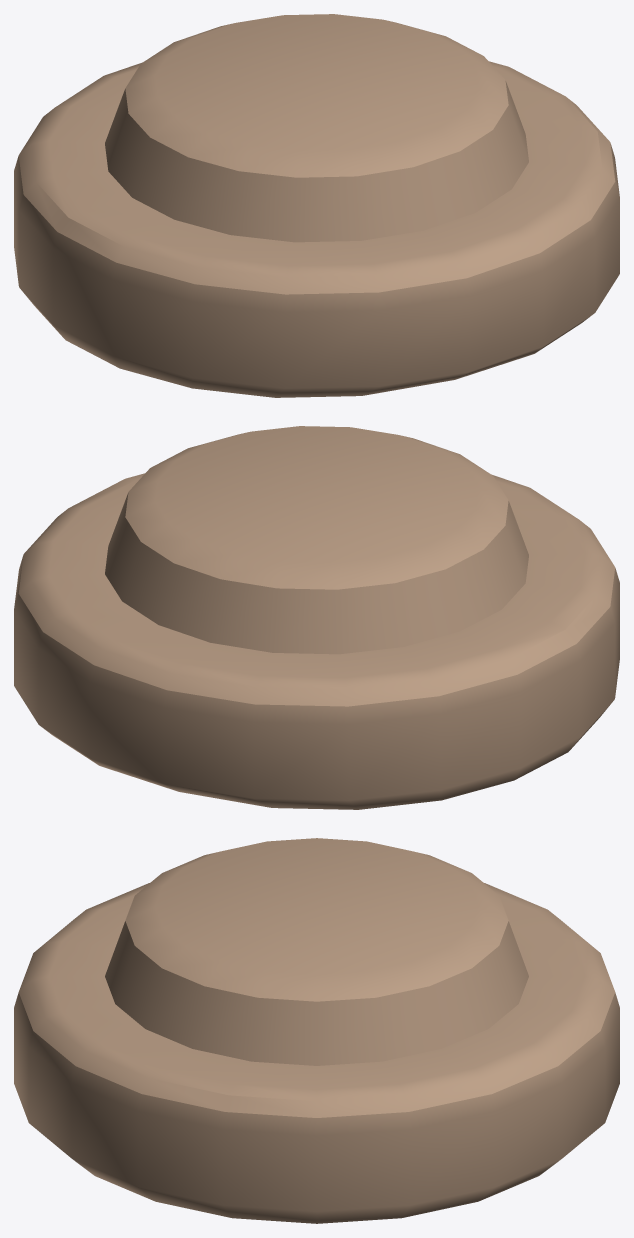
The model's file is mine.fbx.
The picture shows the model from 3 angles, top to bottom: view 1: azimuth 30°, elevation 25°; view 2: azimuth 150°, elevation 25°; view 3: azimuth 270°, elevation 25°; orthographic projection.
Visible parts, largest first — view 1: mine; view 2: mine; view 3: mine.
Boxes of the visible parts, x1,y1,x2,y2 form: mine: (14, 14, 619, 397); mine: (14, 426, 619, 809); mine: (14, 838, 619, 1223).
Bounding box in the file's own units: 2 × 0.7117 × 2.
